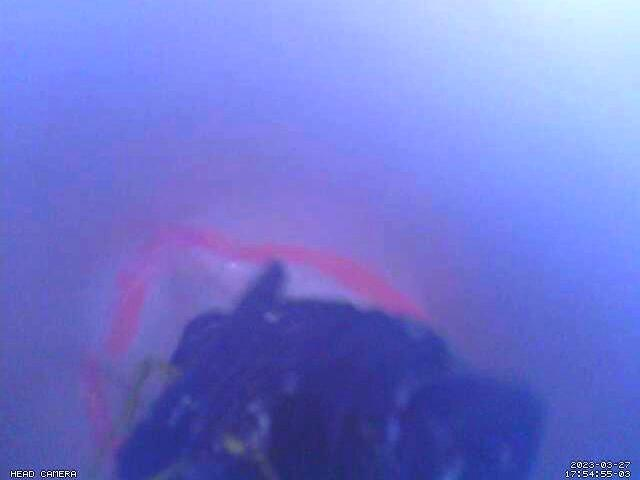head: (79, 222, 434, 462)
